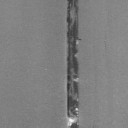slag inclusion: (66, 0, 82, 128)
